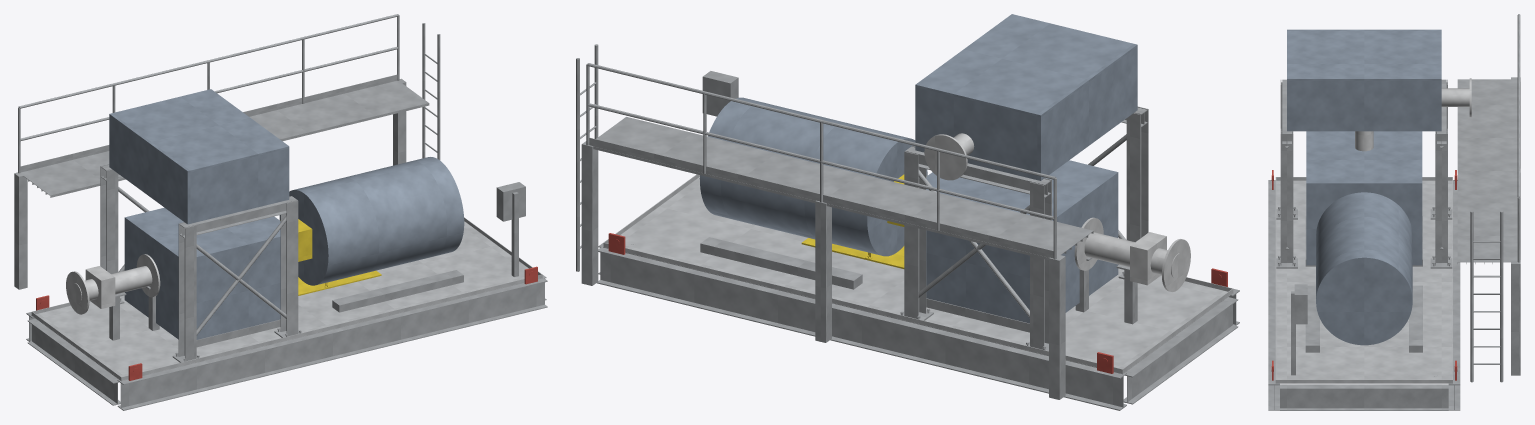
Rendered from compressor-pump-and-generator-skids.glb.
3 views of the same model, side by side, from view 1: azimuth 30°, elevation 25°; view 2: azimuth 150°, elevation 25°; view 3: azimuth 270°, elevation 25° (orthographic). The views are drawn at different scales.
Parts seen in each view (by area): view 1: Equipment(context), DripTray&Deck, Platform,Ladder&Instruments, BaseFrame, Pipe&EquipmentSupports, SkidPiping, EquipmentPedestals, CouplingGuard, LiftingLugs; view 2: Equipment(context), Platform,Ladder&Instruments, DripTray&Deck, BaseFrame, Pipe&EquipmentSupports, SkidPiping, EquipmentPedestals, CouplingGuard, LiftingLugs; view 3: Equipment(context), Platform,Ladder&Instruments, DripTray&Deck, BaseFrame, Pipe&EquipmentSupports, EquipmentPedestals, SkidPiping.
Part boxes in pixels (bbox=[...]): Equipment(context): bbox=[109, 89, 464, 339]; DripTray&Deck: bbox=[31, 217, 542, 381]; Platform,Ladder&Instruments: bbox=[14, 14, 525, 289]; BaseFrame: bbox=[26, 274, 547, 410]; Pipe&EquipmentSupports: bbox=[100, 164, 301, 362]; SkidPiping: bbox=[66, 254, 160, 314]; EquipmentPedestals: bbox=[196, 270, 463, 347]; CouplingGuard: bbox=[298, 219, 381, 295]; LiftingLugs: bbox=[36, 266, 537, 380]; Equipment(context): bbox=[699, 14, 1137, 323]; Platform,Ladder&Instruments: bbox=[576, 44, 1093, 399]; DripTray&Deck: bbox=[603, 174, 1233, 374]; BaseFrame: bbox=[597, 243, 1239, 410]; Pipe&EquipmentSupports: bbox=[899, 106, 1148, 350]; SkidPiping: bbox=[924, 133, 1190, 291]; EquipmentPedestals: bbox=[700, 237, 1029, 332]; CouplingGuard: bbox=[801, 174, 904, 268]; LiftingLugs: bbox=[608, 233, 1227, 373]; Equipment(context): bbox=[1287, 29, 1441, 345]; Platform,Ladder&Instruments: bbox=[1291, 14, 1520, 382]; DripTray&Deck: bbox=[1275, 177, 1452, 383]; BaseFrame: bbox=[1268, 180, 1460, 410]; Pipe&EquipmentSupports: bbox=[1276, 79, 1452, 268]; EquipmentPedestals: bbox=[1305, 216, 1422, 352]; SkidPiping: bbox=[1355, 78, 1471, 151].
Size of the model in its own units: 7.66 by 3.63 by 3.91.
6 materials, 6 textured.
